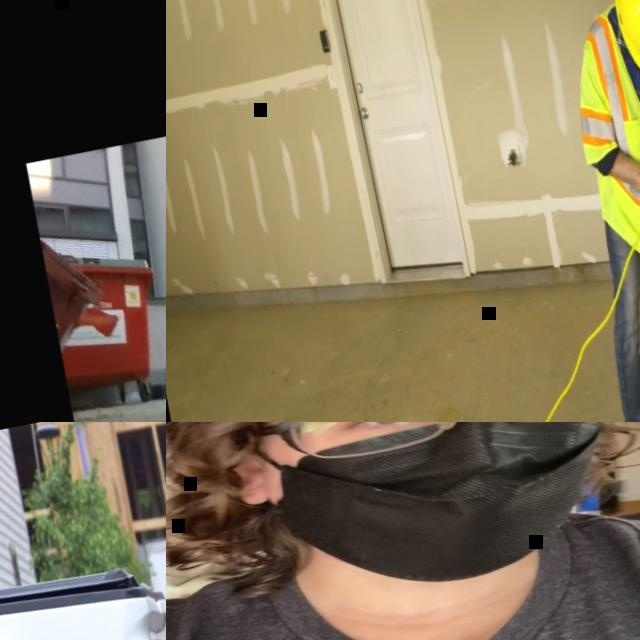Hardhat: (606, 0, 640, 78)
Mask: (248, 422, 633, 614)
NO-Safety Vest: (166, 489, 640, 640)
Person: (166, 422, 640, 640), (533, 0, 640, 422)
Safety Vest: (560, 0, 640, 244)
vehicle: (0, 533, 166, 640)
